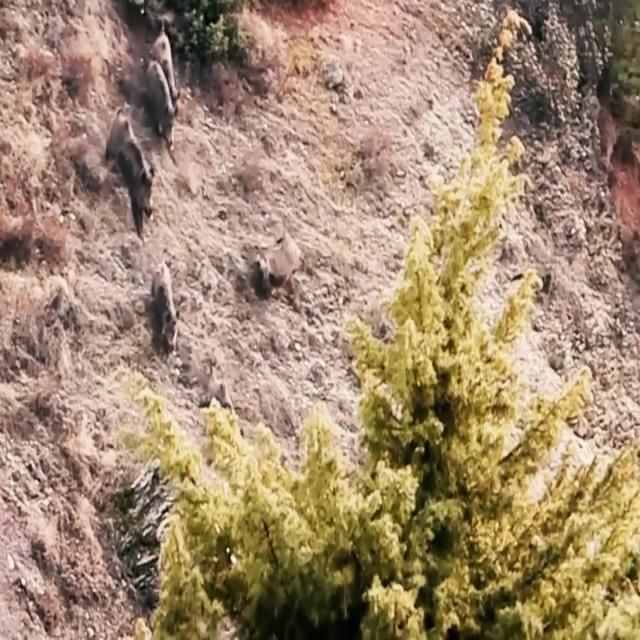pig: (146, 18, 186, 133), (116, 92, 148, 226), (142, 249, 178, 354)
